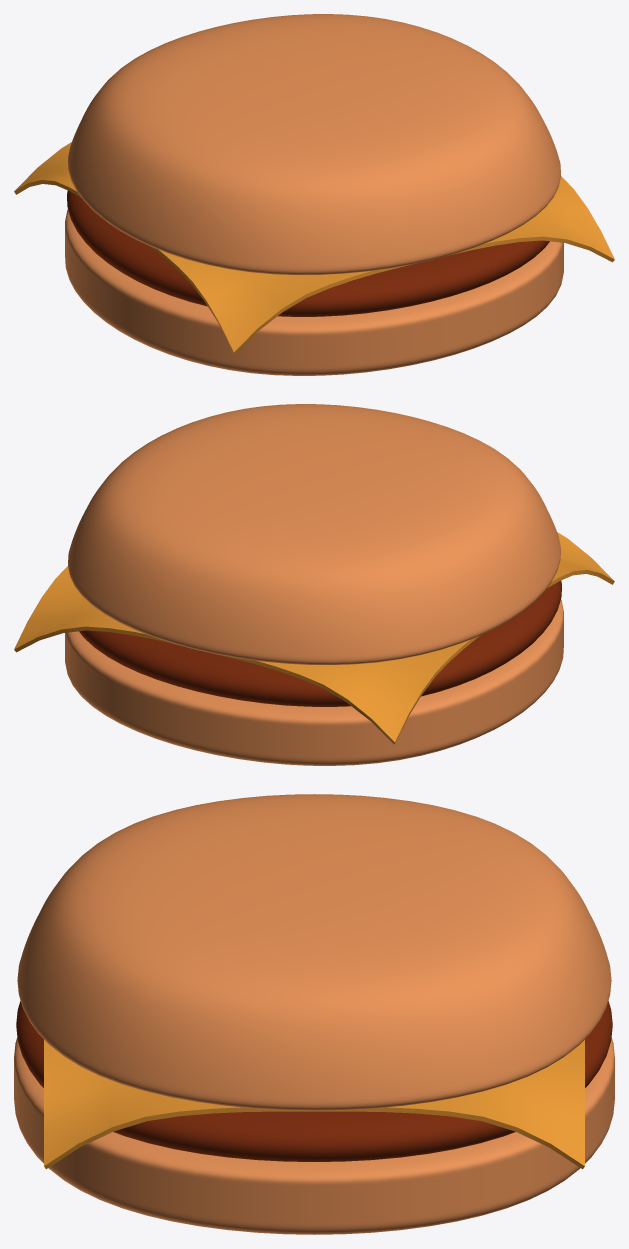
The model's file is hamburger.glb.
3 views of the same model, one above another, from view 1: azimuth 30°, elevation 25°; view 2: azimuth 150°, elevation 25°; view 3: azimuth 270°, elevation 25° (orthographic). The views are drawn at different scales.
Visible parts, largest first — view 1: TopBun, BottomBun, Meat, Cheese; view 2: TopBun, BottomBun, Meat, Cheese; view 3: TopBun, BottomBun, Cheese, Meat.
Part boxes in pixels (<box>): TopBun: <box>68,14,560,274</box>; BottomBun: <box>65,209,563,375</box>; Meat: <box>67,190,549,316</box>; Cheese: <box>14,142,614,354</box>; TopBun: <box>68,404,560,664</box>; BottomBun: <box>65,599,563,765</box>; Meat: <box>79,580,561,706</box>; Cheese: <box>14,532,614,744</box>; TopBun: <box>17,794,611,1110</box>; BottomBun: <box>14,1038,614,1234</box>; Cheese: <box>44,1039,584,1169</box>; Meat: <box>16,1001,612,1161</box>.
Size of the model in its own units: 9.17 by 4.25 by 9.17.
